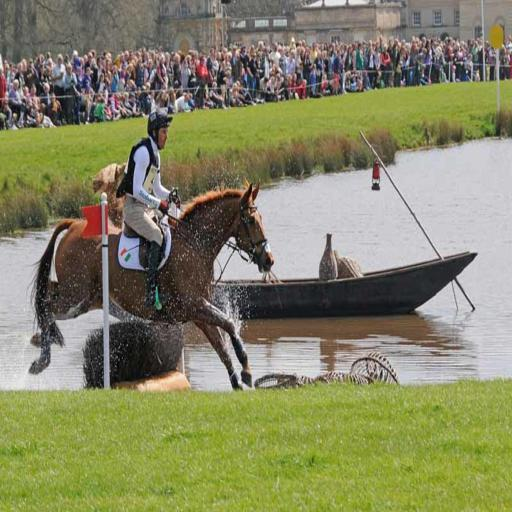horse: (28, 174, 274, 392)
